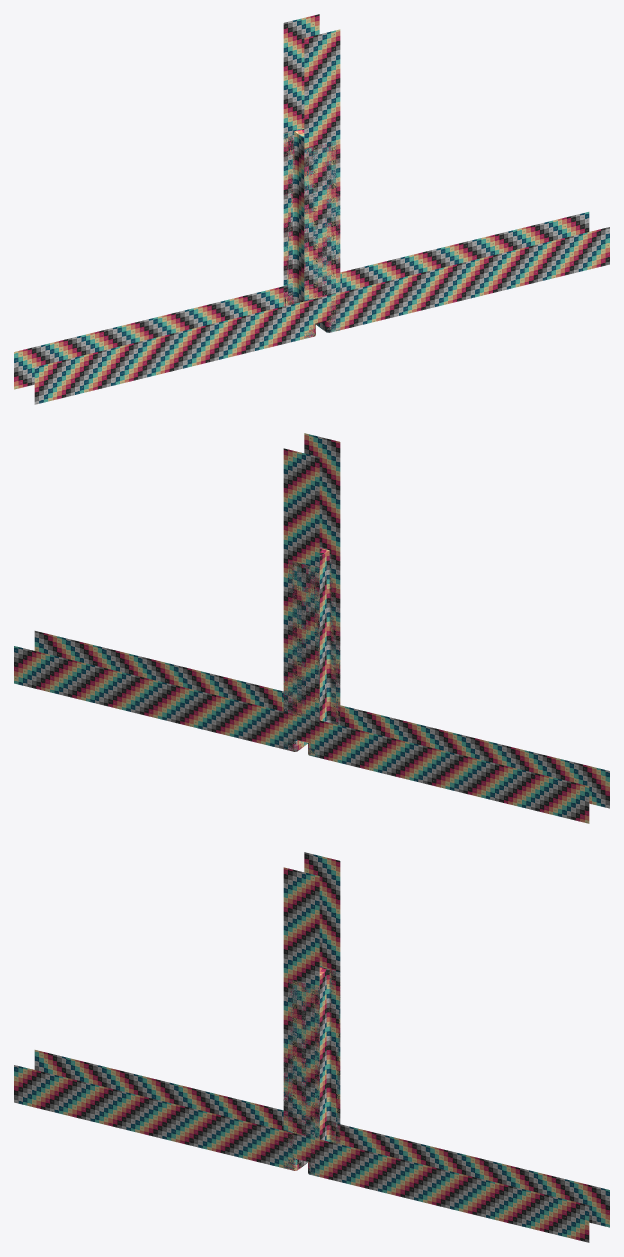
The model's file is wallManualMorph1.glb.
The picture shows the model from 3 angles, top to bottom: view 1: azimuth 30°, elevation 25°; view 2: azimuth 150°, elevation 25°; view 3: azimuth 330°, elevation 25°; orthographic projection.
Parts seen in each view (by area): view 1: wallMaxWidth, wallMaxHeight, wallHoleMaxWidth, wallHoleMaxHeight; view 2: wallMaxWidth, wallMaxHeight, wallHoleMaxWidth, wallHoleMaxHeight; view 3: wallMaxWidth, wallMaxHeight, wallHoleMaxWidth, wallHoleMaxHeight.
Part boxes in pixels (bbox=[...]): wallMaxWidth: bbox=[14, 212, 609, 404]; wallMaxHeight: bbox=[283, 14, 340, 337]; wallHoleMaxWidth: bbox=[120, 238, 503, 378]; wallHoleMaxHeight: bbox=[283, 129, 340, 338]; wallMaxWidth: bbox=[14, 631, 609, 823]; wallMaxHeight: bbox=[283, 433, 340, 755]; wallHoleMaxWidth: bbox=[120, 657, 503, 797]; wallHoleMaxHeight: bbox=[283, 548, 340, 757]; wallMaxWidth: bbox=[14, 1050, 609, 1242]; wallMaxHeight: bbox=[283, 852, 340, 1174]; wallHoleMaxWidth: bbox=[120, 1076, 503, 1216]; wallHoleMaxHeight: bbox=[283, 967, 340, 1176].
Bounding box in the file's own units: 16 × 8 × 1.
Materials: 1 (1 with a texture image).
